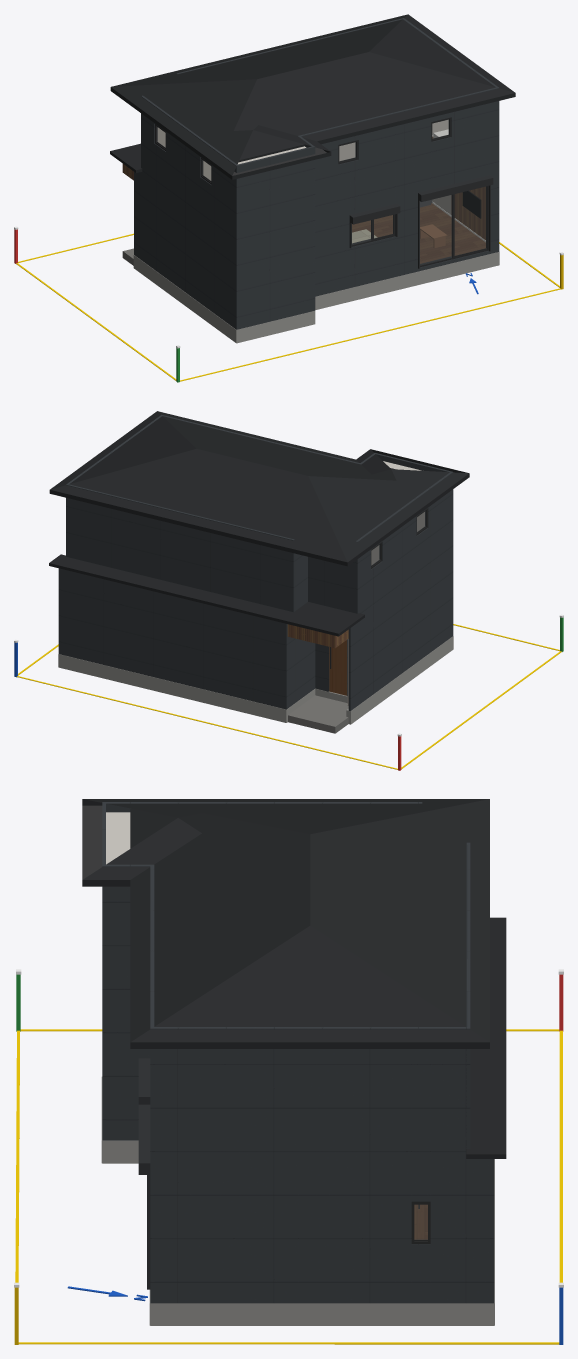
The picture shows the model from 3 angles, top to bottom: view 1: azimuth 30°, elevation 25°; view 2: azimuth 150°, elevation 25°; view 3: azimuth 270°, elevation 25°; orthographic projection. The views are drawn at different scales.
Visible parts, largest first — view 1: siding, roof, glass, found, floor, shutter, frame, lotline, wall, accent; view 2: siding, roof, found, tile, lotline, door, woodceil; view 3: siding, roof, found, lotline, shutter, soffit, ceiling.
Boxes of the visible parts, bbox=[...] form: siding: bbox=[134, 18, 499, 329]; roof: bbox=[110, 14, 515, 179]; glass: bbox=[157, 120, 485, 264]; found: bbox=[133, 252, 499, 343]; floor: bbox=[352, 136, 485, 263]; shutter: bbox=[349, 175, 493, 268]; frame: bbox=[155, 117, 488, 267]; lotline: bbox=[16, 233, 560, 381]; wall: bbox=[157, 119, 451, 214]; accent: bbox=[451, 186, 485, 240]; siding: bbox=[58, 414, 453, 710]; roof: bbox=[49, 411, 469, 636]; found: bbox=[58, 636, 453, 724]; tile: bbox=[288, 695, 348, 733]; lotline: bbox=[17, 624, 561, 769]; door: bbox=[329, 640, 346, 695]; woodceil: bbox=[287, 624, 348, 648]; siding: bbox=[102, 802, 494, 1303]; roof: bbox=[82, 799, 506, 1158]; found: bbox=[101, 1077, 494, 1325]; lotline: bbox=[15, 1029, 562, 1344]; shutter: bbox=[138, 1058, 150, 1289]; soffit: bbox=[82, 805, 102, 879]; ceiling: bbox=[106, 812, 130, 864].
Size of the model in its own units: 14.14 by 6.95 by 10.42.
31 materials, 6 textured.
